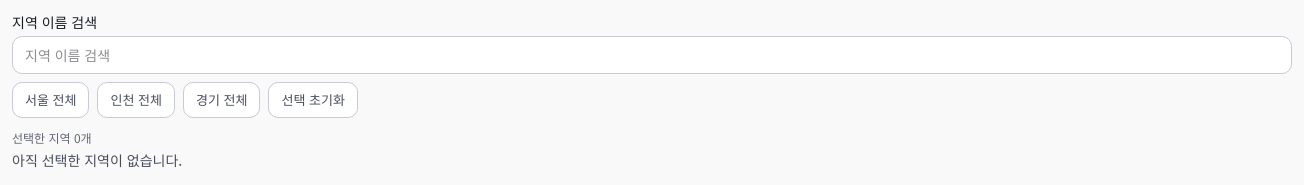
Test: search › shows a meaningful empty state when nothing matches
The width and height of the screenshot is (1304, 185).
Type "없는지역" into the dropdown with test id "facility-cost-region-search" at (652, 55), box [12,36,1292,74]
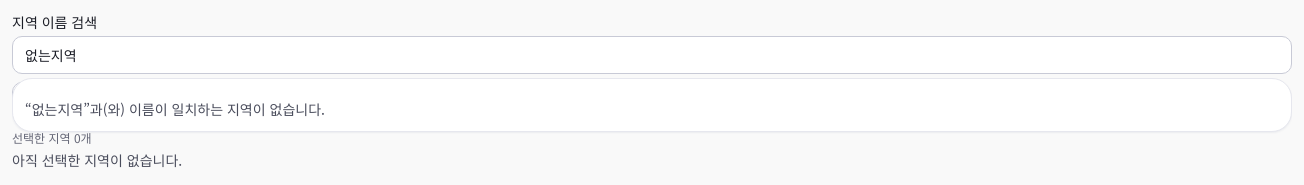
Result: the text with test id "facility-cost-region-empty" shows "없는지역" at [25,99,325,119]
Result: the text with test id "facility-cost-region-empty" shows "일치하는 지역이 없습니다" at [25,99,325,119]
